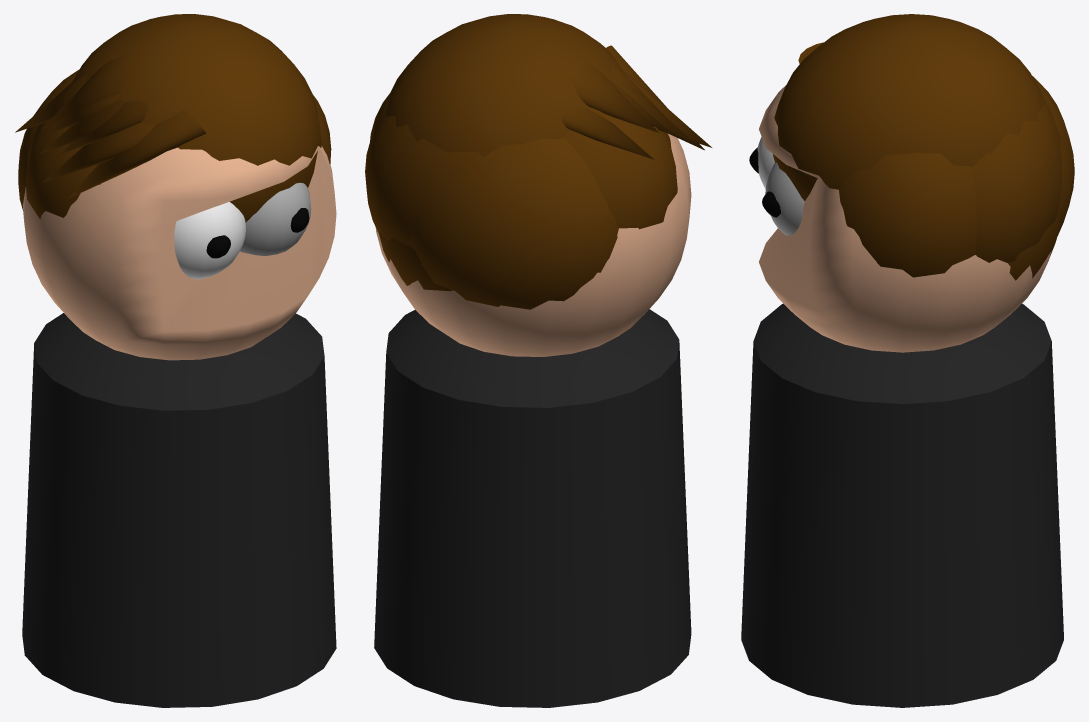
The model's file is uti.fbx.
3 renders of one model, left to right at view 1: azimuth 30°, elevation 25°; view 2: azimuth 150°, elevation 25°; view 3: azimuth 270°, elevation 25°, orthographic. The views are drawn at different scales.
Visible parts, largest first — view 1: pasted__pasted__pasted__pSphere2; view 2: pasted__pasted__pasted__pSphere2; view 3: pasted__pasted__pasted__pSphere2.
Boxes of the visible parts, box(x1,y1,x2,y2) form: pasted__pasted__pasted__pSphere2: box(15, 14, 336, 707); pasted__pasted__pasted__pSphere2: box(365, 14, 711, 707); pasted__pasted__pasted__pSphere2: box(741, 14, 1074, 707).
Size of the model in its own units: 2.22 by 4.24 by 2.07.
